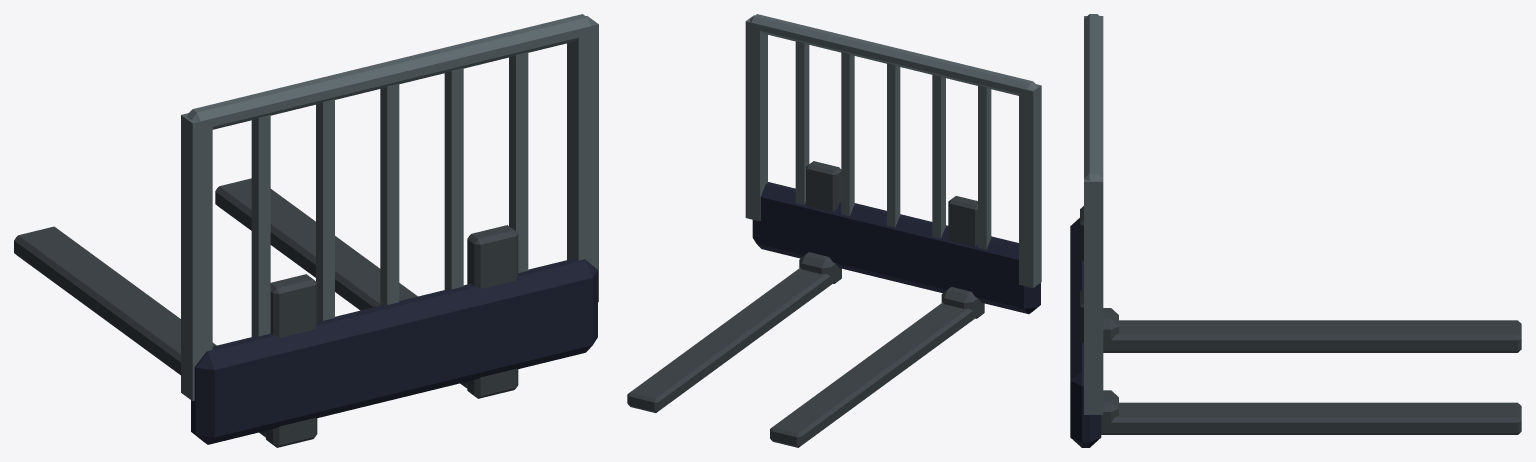
Rendered from sm_env_depot_forklift_carriage.glb.
3 renders of one model, left to right at view 1: azimuth 30°, elevation 25°; view 2: azimuth 150°, elevation 25°; view 3: azimuth 270°, elevation 25°, orthographic. The views are drawn at different scales.
Parts seen in each view (by area): view 1: CarriagePlate, BackrestTop, ForkTine, BackrestSide, BackrestSide.001, ForkTine.001, BackrestBar.002, BackrestBar.003, BackrestBar, BackrestBar.001, BackrestBar.004, ForkShank.001 (+1 smaller); view 2: CarriagePlate, ForkTine.001, ForkTine, BackrestTop, BackrestSide, BackrestSide.001, BackrestBar.004, BackrestBar.003, BackrestBar.001, BackrestBar, BackrestBar.002, ForkShank.001 (+3 smaller); view 3: ForkTine.001, ForkTine, BackrestSide.001, BackrestTop, CarriagePlate, ForkHeel.001, ForkHeel.
Part boxes in pixels (left/top/right/bottom): CarriagePlate: left=191, top=258, right=597, bottom=444; BackrestTop: left=186, top=14, right=593, bottom=129; ForkTine: left=14, top=226, right=265, bottom=437; BackrestSide: left=181, top=113, right=212, bottom=401; BackrestSide.001: left=567, top=16, right=598, bottom=302; ForkTine.001: left=215, top=178, right=467, bottom=388; BackrestBar.002: left=380, top=83, right=399, bottom=305; BackrestBar.003: left=444, top=67, right=463, bottom=289; BackrestBar: left=251, top=115, right=270, bottom=336; BackrestBar.001: left=316, top=99, right=334, bottom=320; BackrestBar.004: left=509, top=52, right=528, bottom=272; ForkShank.001: left=467, top=225, right=518, bottom=398; CarriagePlate: left=752, top=182, right=1040, bottom=314; ForkTine.001: left=627, top=267, right=836, bottom=412; ForkTine: left=770, top=302, right=978, bottom=447; BackrestTop: left=750, top=14, right=1037, bottom=95; BackrestSide: left=1019, top=84, right=1041, bottom=287; BackrestSide.001: left=745, top=15, right=767, bottom=221; BackrestBar.004: left=795, top=41, right=809, bottom=205; BackrestBar.003: left=841, top=52, right=854, bottom=216; BackrestBar.001: left=932, top=74, right=945, bottom=238; BackrestBar: left=978, top=85, right=991, bottom=249; BackrestBar.002: left=887, top=63, right=900, bottom=227; ForkShank.001: left=806, top=161, right=841, bottom=283; ForkTine.001: left=1101, top=402, right=1521, bottom=434; ForkTine: left=1103, top=320, right=1521, bottom=352; BackrestSide.001: left=1084, top=179, right=1103, bottom=414; BackrestTop: left=1084, top=14, right=1103, bottom=181; CarriagePlate: left=1070, top=218, right=1101, bottom=447; ForkHeel.001: left=1101, top=390, right=1118, bottom=429; ForkHeel: left=1103, top=308, right=1118, bottom=347.
Size of the model in its own units: 1.01 by 0.835 by 1.16.
